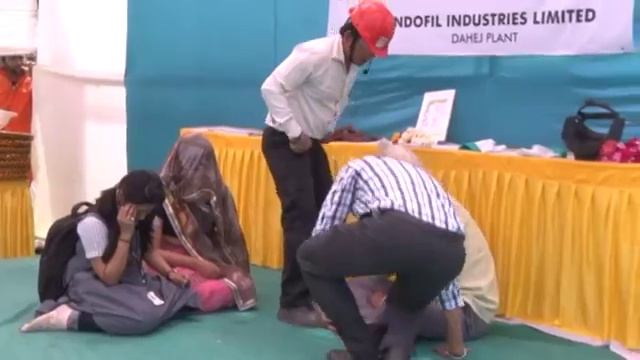helmet: (349, 3, 399, 60), (0, 107, 18, 134)
helmet_off: (163, 137, 222, 205), (103, 168, 168, 227), (0, 51, 28, 80)
helmet_on: (337, 0, 398, 74)
person: (259, 2, 397, 325), (297, 151, 465, 360), (16, 173, 210, 339), (142, 130, 256, 306), (397, 200, 498, 359), (0, 47, 36, 134)
